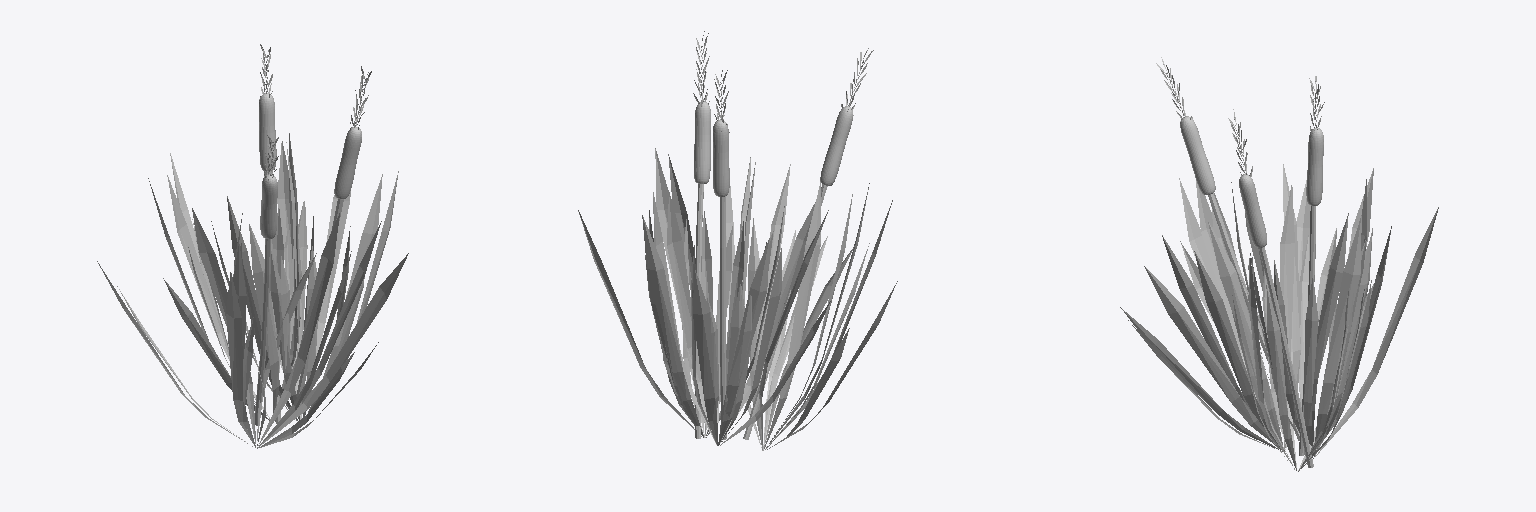
File: cattails.obj
3 views of the same model, side by side, from view 1: azimuth 30°, elevation 25°; view 2: azimuth 150°, elevation 25°; view 3: azimuth 270°, elevation 25° (orthographic).
Visible parts, largest first — view 1: Obj_000003, Obj_000004, Obj_000002, Obj_000001; view 2: Obj_000003, Obj_000004, Obj_000002, Obj_000001; view 3: Obj_000003, Obj_000004, Obj_000002, Obj_000001.
Boxes of the visible parts, x1,y1,x2,y2 form: Obj_000003: [97, 133, 408, 448]; Obj_000004: [259, 93, 361, 238]; Obj_000002: [255, 171, 343, 425]; Obj_000001: [259, 44, 371, 180]; Obj_000003: [578, 148, 897, 450]; Obj_000004: [694, 101, 852, 196]; Obj_000002: [695, 184, 827, 439]; Obj_000001: [693, 31, 873, 132]; Obj_000003: [1120, 164, 1438, 471]; Obj_000004: [1180, 116, 1323, 247]; Obj_000002: [1208, 193, 1315, 467]; Obj_000001: [1156, 57, 1324, 178].
Bounding box in the file's own units: 67.12 × 86.13 × 63.96.